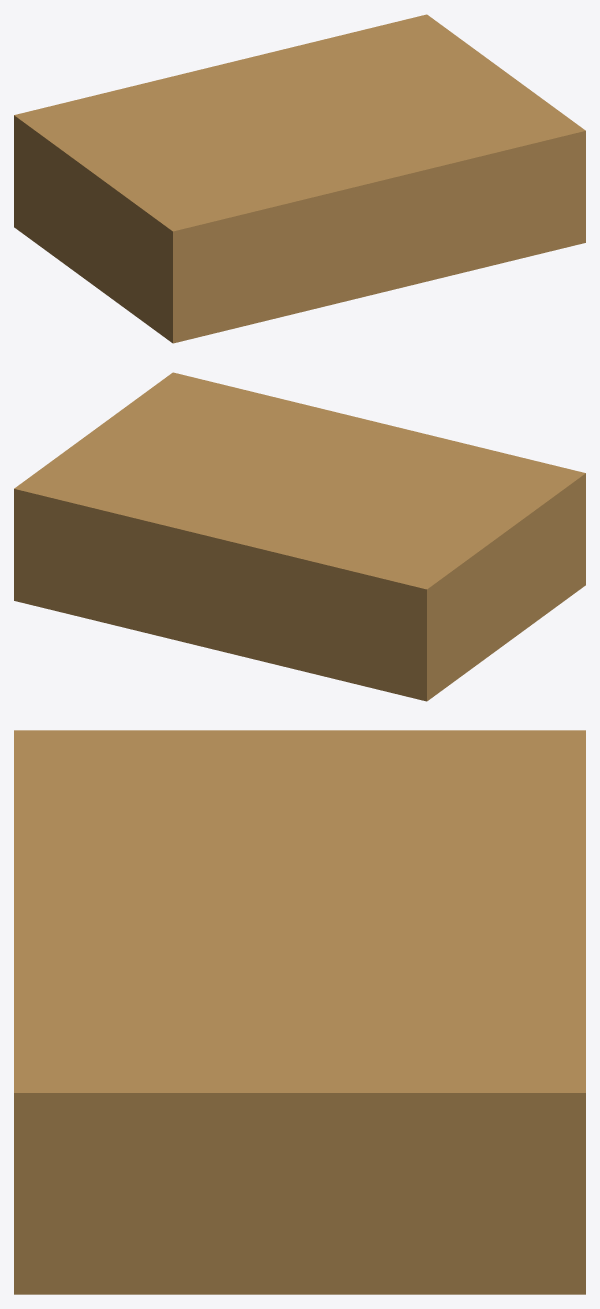
3 renders of one model, top to bottom at view 1: azimuth 30°, elevation 25°; view 2: azimuth 150°, elevation 25°; view 3: azimuth 270°, elevation 25°, orthographic. The views are drawn at different scales.
Parts seen in each view (by area): view 1: RUN-048-S02-ribbon; view 2: RUN-048-S02-ribbon; view 3: RUN-048-S02-ribbon.
Boxes of the visible parts, <box> form: RUN-048-S02-ribbon: <box>14,14,585,343</box>; RUN-048-S02-ribbon: <box>14,372,585,701</box>; RUN-048-S02-ribbon: <box>14,730,585,1294</box>.
Bounding box in the file's own units: 0.135 × 0.035 × 0.09.
